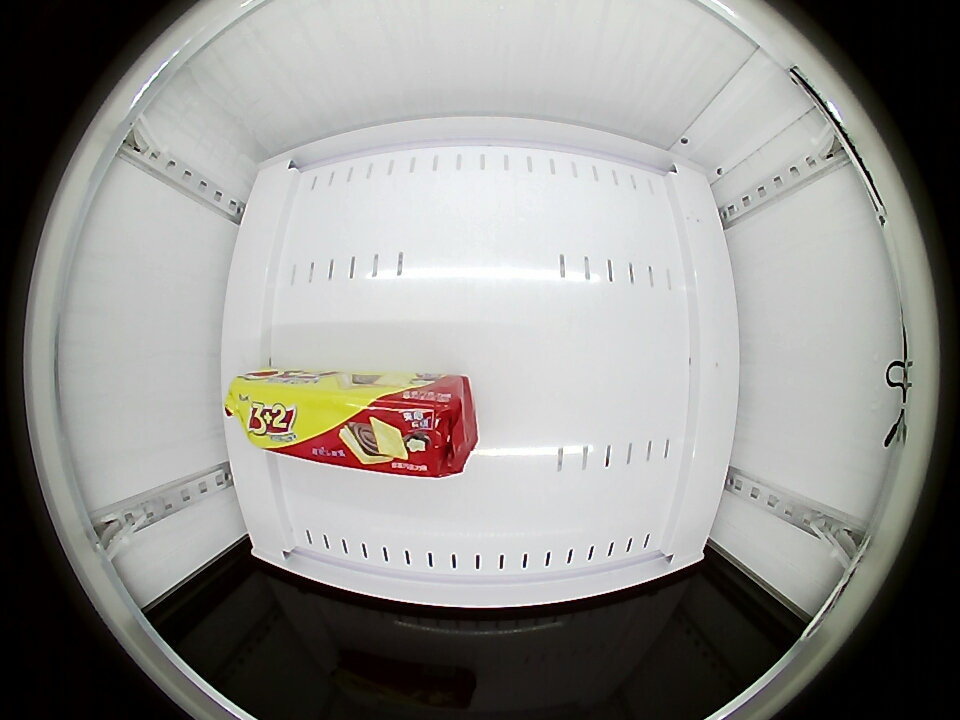3jia2: (232, 372, 468, 477)
